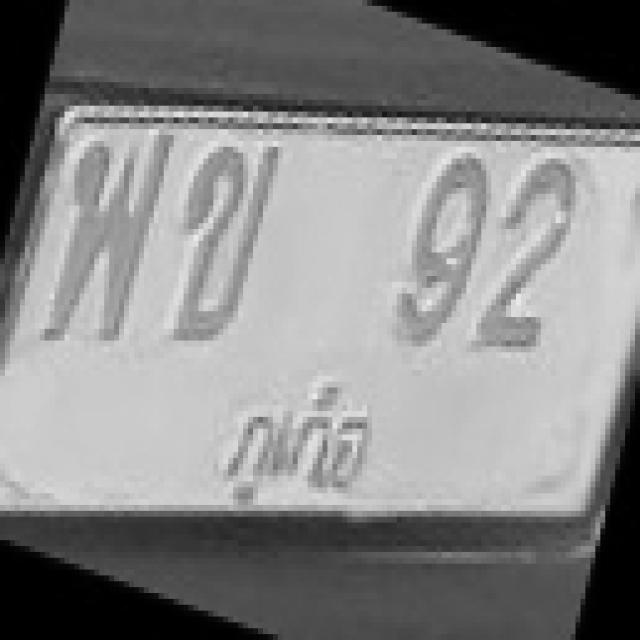11KhorKhai: (163, 125, 303, 355)
2: (473, 144, 600, 371)
40ForFun: (34, 109, 188, 373)
9: (376, 138, 505, 359)
Phuket: (193, 364, 383, 510)
